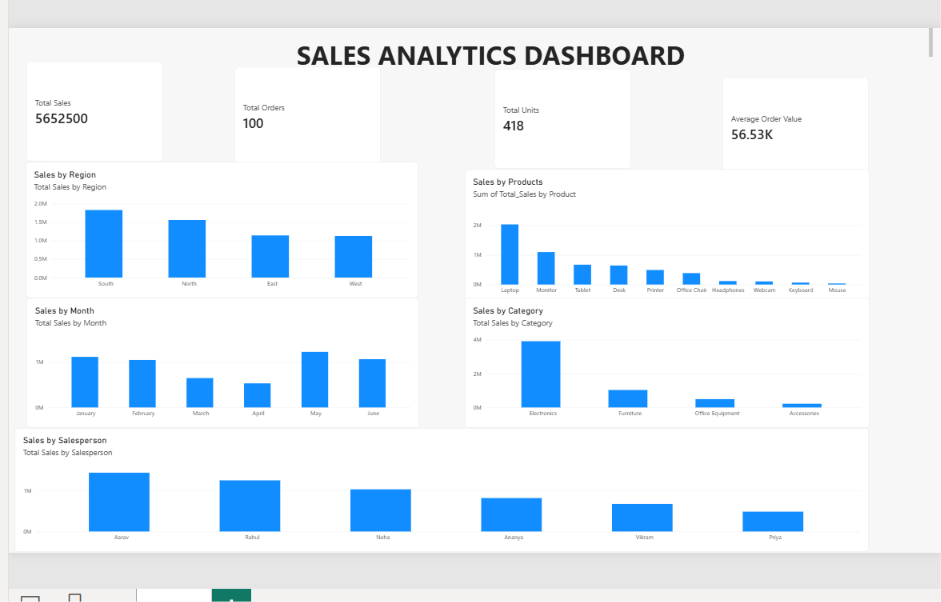

What the dashboard file says about the page in this screenshot:
{"tool":"powerbi","page":{"name":"Page 1","canvas":[1920,1080],"ordinal":0},"visuals":[{"type":"cardVisual","fields":{"Data":["Sales_Analytics_Dataset           csv version.Total Sales"]},"box":[37,70,280,205],"z":0},{"type":"cardVisual","fields":{"Data":["Sales_Analytics_Dataset           csv version.Total Orders"]},"box":[465.2,80.3,300,205],"z":1000},{"type":"cardVisual","fields":{"Data":["Sales_Analytics_Dataset           csv version.Average Order Value"]},"box":[1469.6,102.9,300,205],"z":2000},{"type":"cardVisual","fields":{"Data":["Sales_Analytics_Dataset           csv version.Total Units"]},"box":[1000.3,84.4,280,205],"z":3000},{"type":"clusteredColumnChart","title":"Sales by Region","fields":{"Category":["Sales_Analytics_Dataset           csv version.Region"],"Y":["Sales_Analytics_Dataset           csv version.Total Sales"]},"box":[35,275.8,807.5,280],"z":4000},{"type":"clusteredColumnChart","title":"Sales by Products","fields":{"Category":["Sales_Analytics_Dataset           csv version.Product"],"Y":["Sum(Sales_Analytics_Dataset           csv version.Total_Sales)"]},"box":[938.6,290.2,832.5,280],"z":5000},{"type":"clusteredColumnChart","title":" Sales by Month","fields":{"Category":["Sales_Analytics_Dataset           csv version.Date.Variation.Date Hierarchy.Month","Sales_Analytics_Dataset           csv version.Date.Variation.Date Hierarchy.Day"],"Y":["Sales_Analytics_Dataset           csv version.Total Sales"]},"box":[37,555.7,807.5,267.5],"z":6000},{"type":"clusteredColumnChart","title":" Sales by Category","fields":{"Category":["Sales_Analytics_Dataset           csv version.Category"],"Y":["Sales_Analytics_Dataset           csv version.Total Sales"]},"box":[938.6,555.7,832.5,267.5],"z":7000},{"type":"clusteredColumnChart","title":"Sales by Salesperson","fields":{"Category":["Sales_Analytics_Dataset           csv version.Salesperson"],"Y":["Sales_Analytics_Dataset           csv version.Total Sales"]},"box":[12.3,823.3,1757.8,255.2],"z":8000},{"type":"textbox","box":[1770,0,150,205],"z":9000},{"type":"textbox","box":[35,226.4,1885.4,63.8],"z":10000},{"type":"textbox","box":[90.6,0,1811.3,80.3],"z":11000}]}

Visuals, with their boxes on the page's 1920x1080 design canvas (x1, y1, x2, y2). These are canvas units, not pixel positions in the 941x602 screenshot, which may show the page scaled, cropped or inside an application window:
cardVisual - Sales_Analytics_Dataset           csv version.Total Sales: [x1=37, y1=70, x2=317, y2=275]
cardVisual - Sales_Analytics_Dataset           csv version.Total Orders: [x1=465, y1=80, x2=765, y2=285]
cardVisual - Sales_Analytics_Dataset           csv version.Average Order Value: [x1=1470, y1=103, x2=1770, y2=308]
cardVisual - Sales_Analytics_Dataset           csv version.Total Units: [x1=1000, y1=84, x2=1280, y2=289]
"Sales by Region" clusteredColumnChart: [x1=35, y1=276, x2=842, y2=556]
"Sales by Products" clusteredColumnChart: [x1=939, y1=290, x2=1771, y2=570]
" Sales by Month" clusteredColumnChart: [x1=37, y1=556, x2=844, y2=823]
" Sales by Category" clusteredColumnChart: [x1=939, y1=556, x2=1771, y2=823]
"Sales by Salesperson" clusteredColumnChart: [x1=12, y1=823, x2=1770, y2=1078]
textbox: [x1=1770, y1=0, x2=1920, y2=205]
textbox: [x1=35, y1=226, x2=1920, y2=290]
textbox: [x1=91, y1=0, x2=1902, y2=80]
